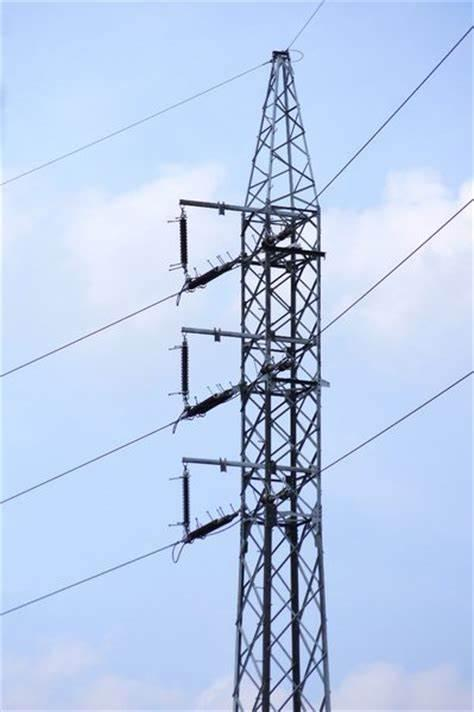power_tower: (170, 41, 361, 712)
